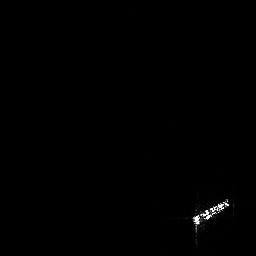ship: (189, 193, 233, 238)
